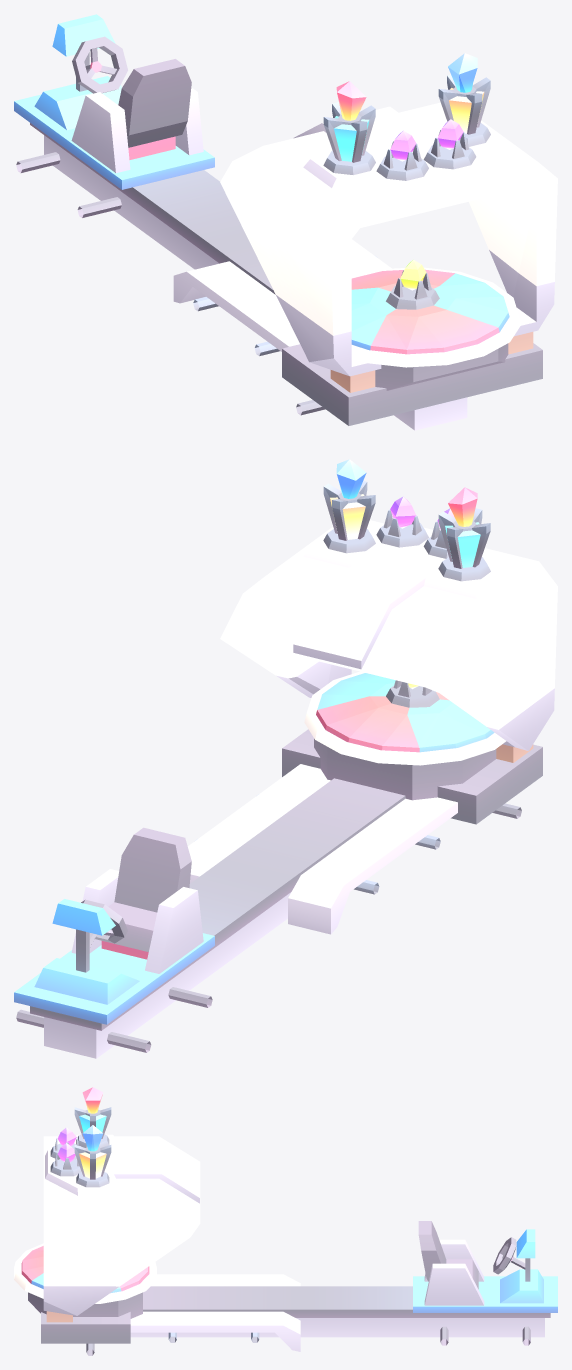
The model's file is Model_car_body.gltf.
3 views of the same model, one above another, from view 1: azimuth 30°, elevation 25°; view 2: azimuth 150°, elevation 25°; view 3: azimuth 270°, elevation 25° (orthographic). The views are drawn at different scales.
Visible parts, largest first — view 1: Model_car_body; view 2: Model_car_body; view 3: Model_car_body.
Boxes of the visible parts, left/top/right/bottom form: Model_car_body: left=14, top=14, right=557, bottom=430; Model_car_body: left=14, top=459, right=557, bottom=1058; Model_car_body: left=14, top=1087, right=557, bottom=1355.
Size of the model in its own units: 2.16 by 2.99 by 6.61.
